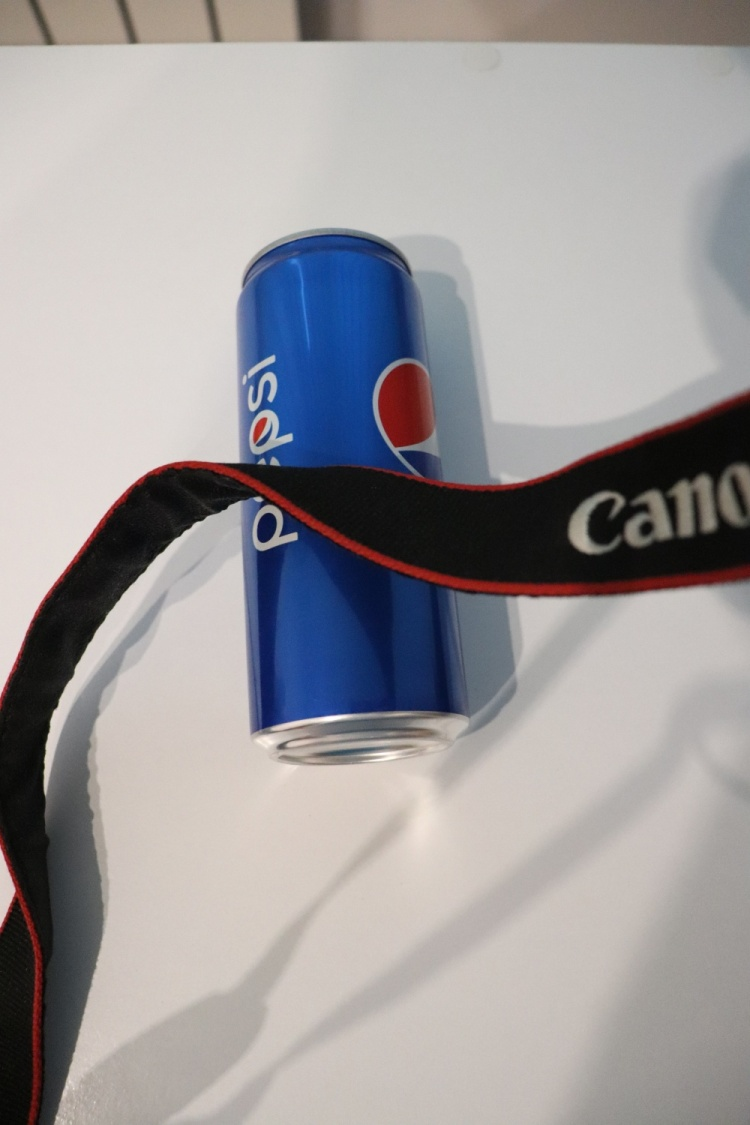pepsi: (234, 229, 472, 765)
